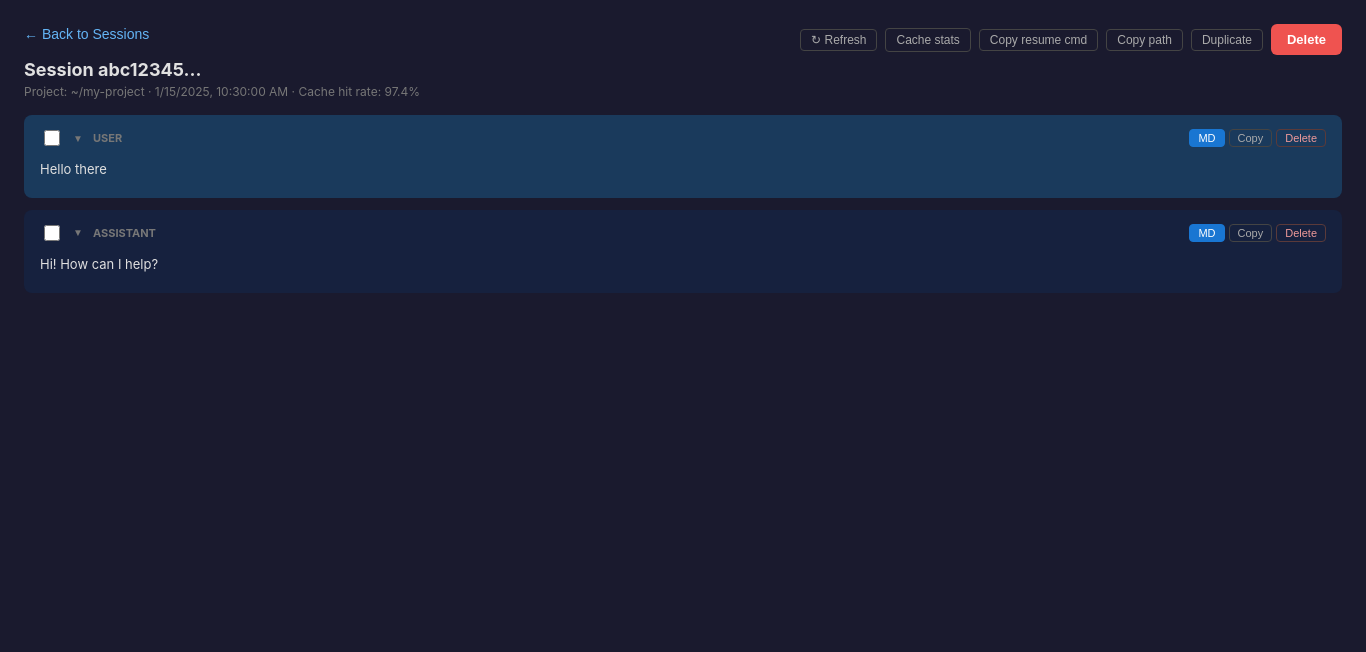
Test: SessionDetail › cache stats panel › subagent sections › keeps each section collapsed until clicked and collapses it again on a second click
The image size is (1366, 652).
Click the button "Cache stats": click(928, 40) [886, 28, 971, 52]
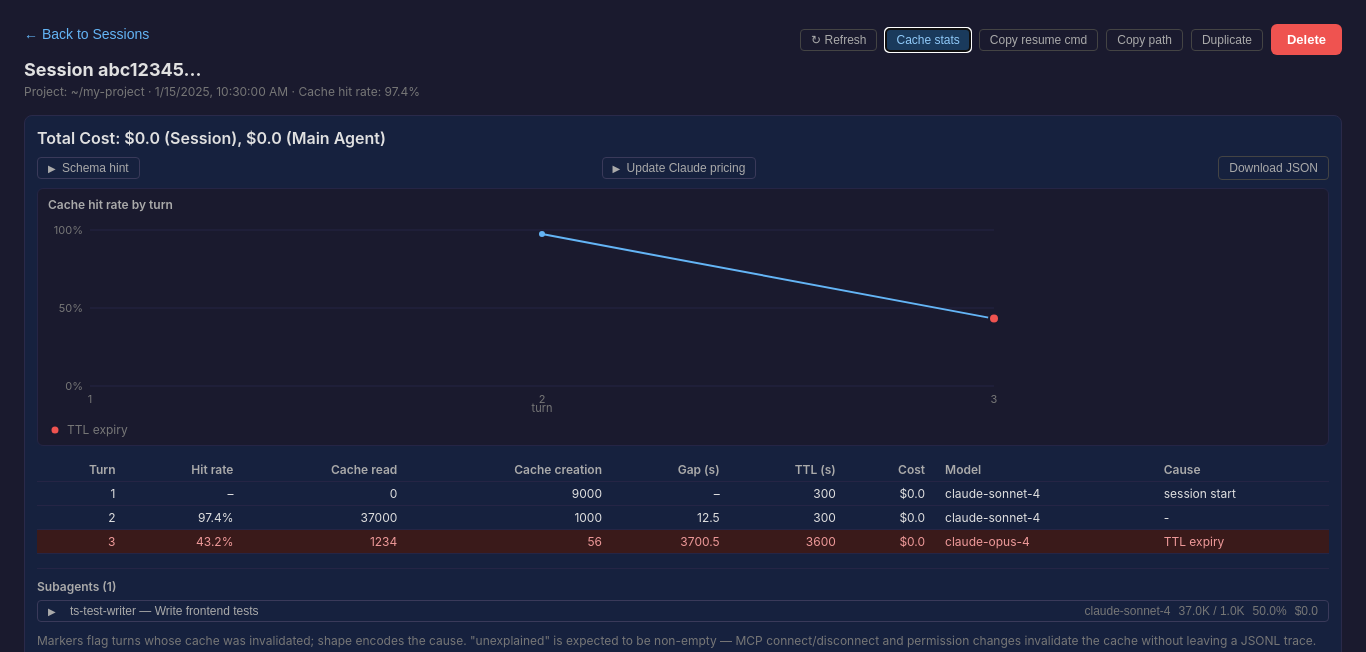
Expected: the number of pictures is 1, [48, 216, 1008, 416]
Click the button "ts-test-writer": click(164, 611) [37, 600, 1329, 622]
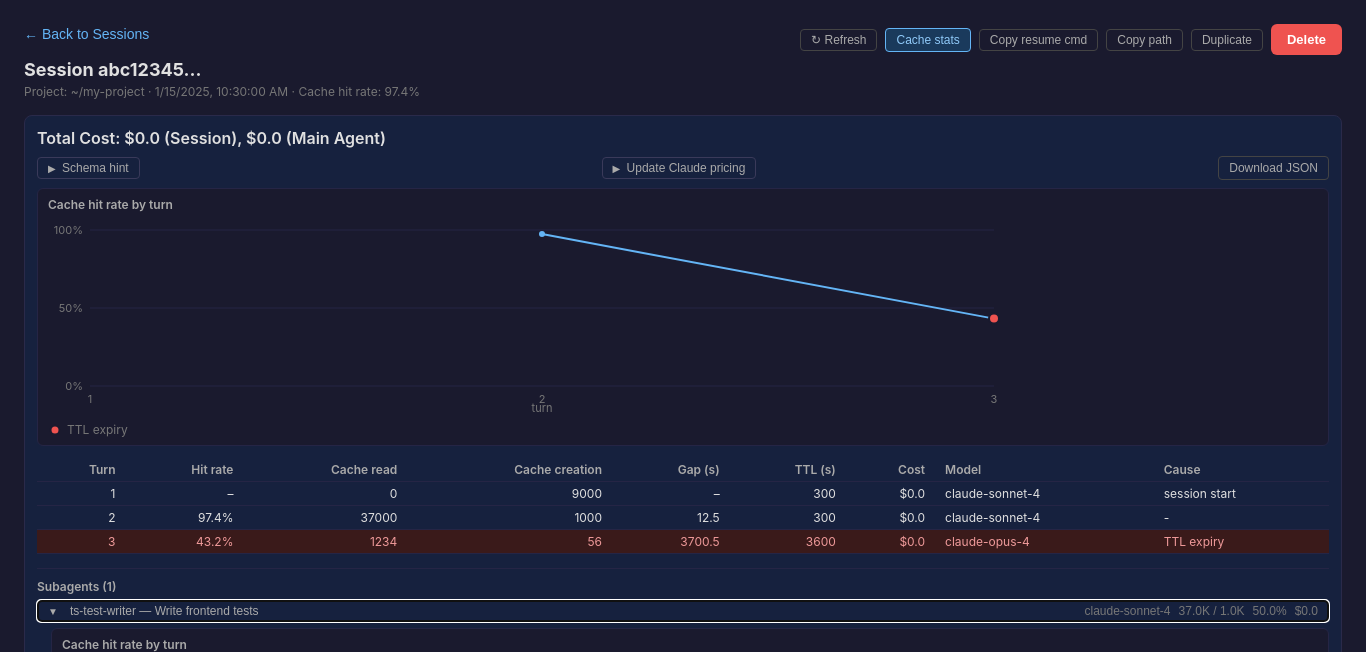
Expected: the button "ts-test-writer" is expanded
Click the button "ts-test-writer": click(164, 611) [37, 600, 1329, 622]
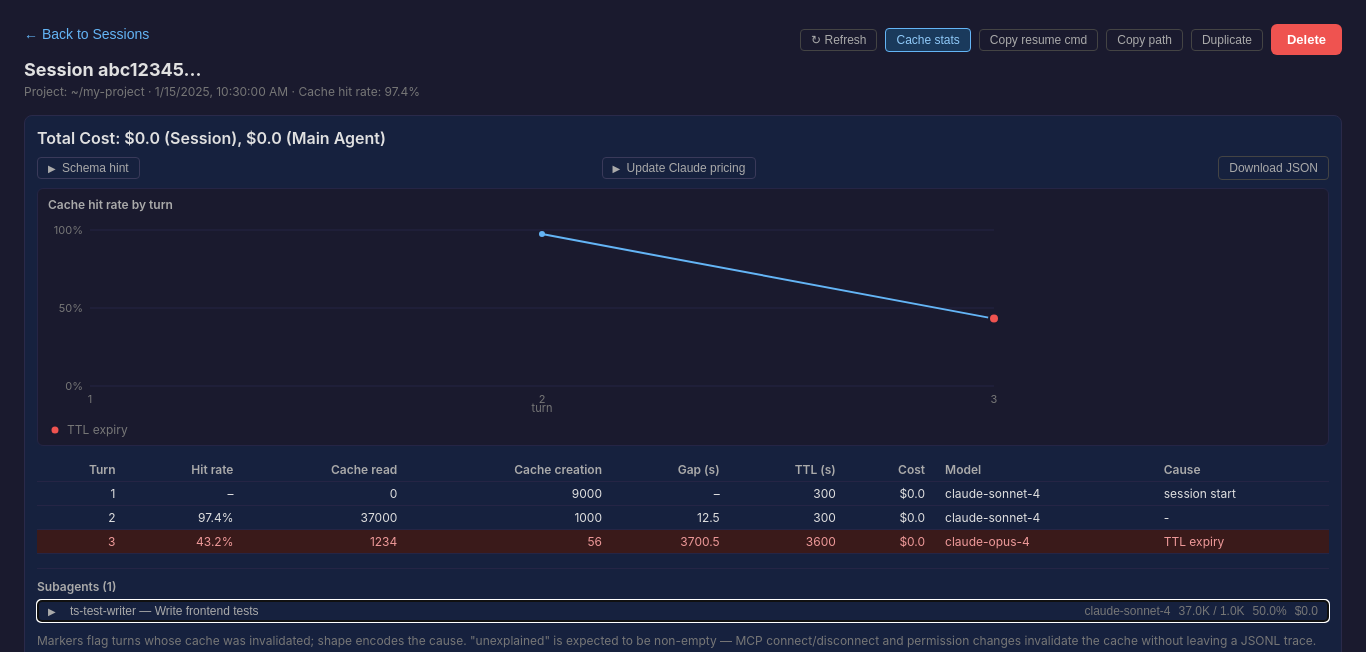
Expected: the button "ts-test-writer" is collapsed, [37, 600, 1329, 622]
